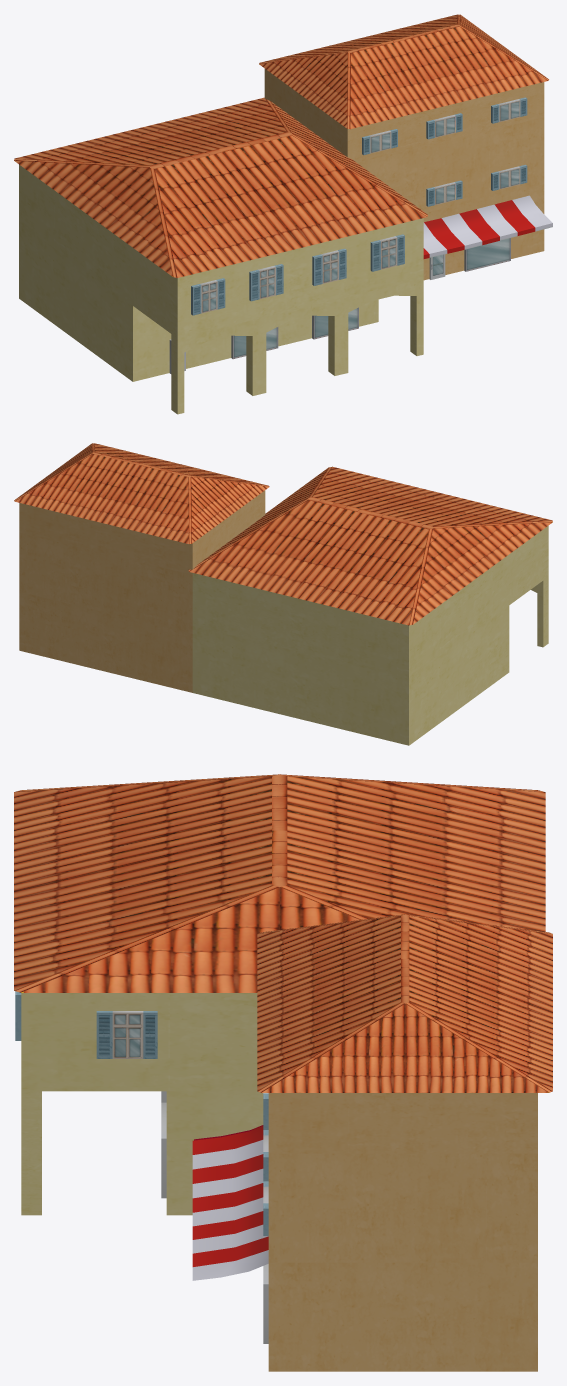
Rendered from Houses_04.fbx.
3 views of the same model, one above another, from view 1: azimuth 30°, elevation 25°; view 2: azimuth 150°, elevation 25°; view 3: azimuth 270°, elevation 25° (orthographic). The views are drawn at different scales.
Visible parts, largest first — view 1: Houses_04; view 2: Houses_04; view 3: Houses_04.
Part boxes in pixels (left/top/right/bottom): Houses_04: left=14, top=14, right=552, bottom=414; Houses_04: left=14, top=443, right=552, bottom=745; Houses_04: left=14, top=774, right=552, bottom=1371.
Bounding box in the file's own units: 10.23 × 4.47 × 6.52.
